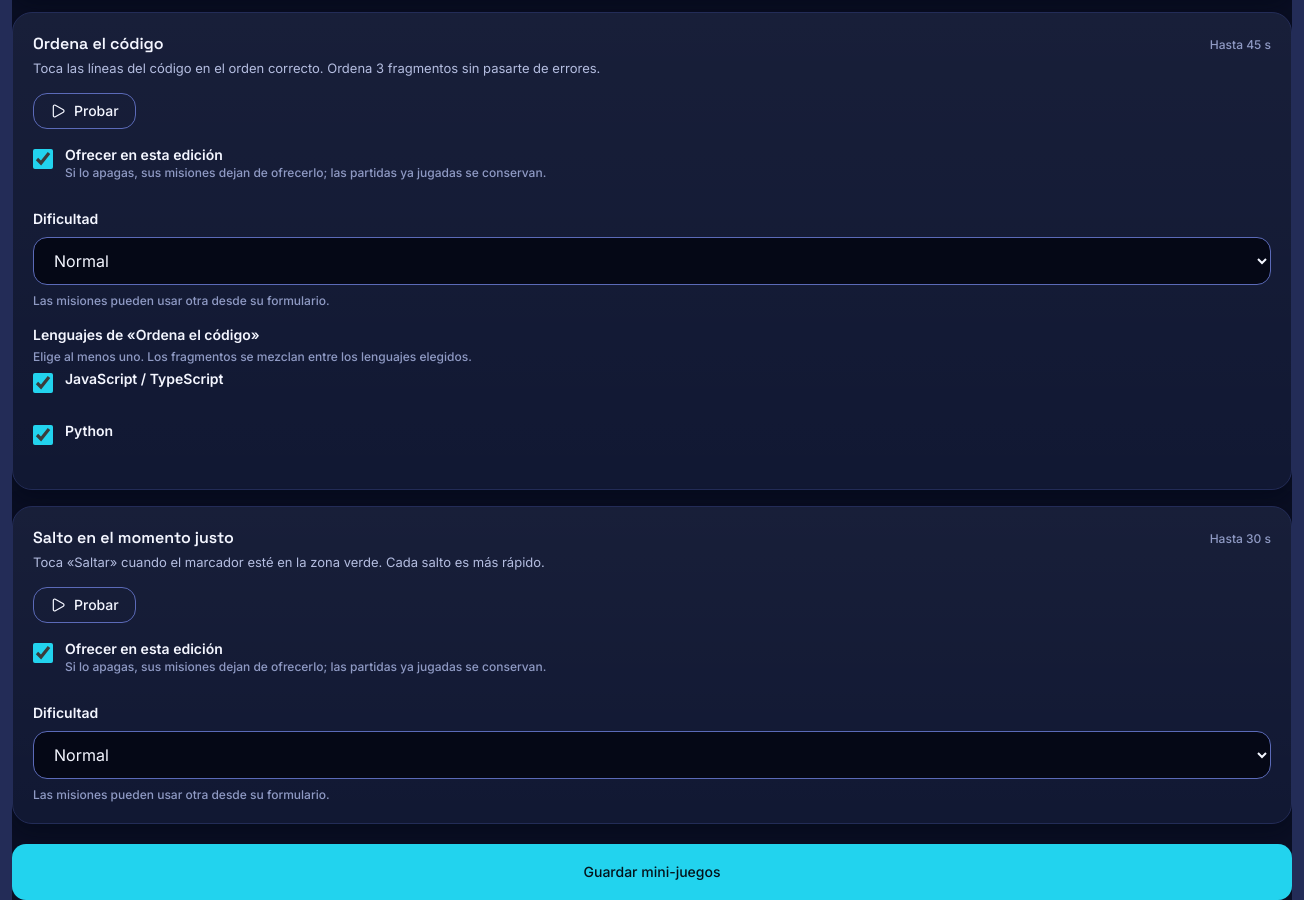
Test: MinigameSettingsView › locks the difficulty of a game that is switched off
(page scrolled)
Click the checkbox labelled "Ofrecer en esta edición" below "Salto en el momento justo": (43, 653) [33,643,53,663]
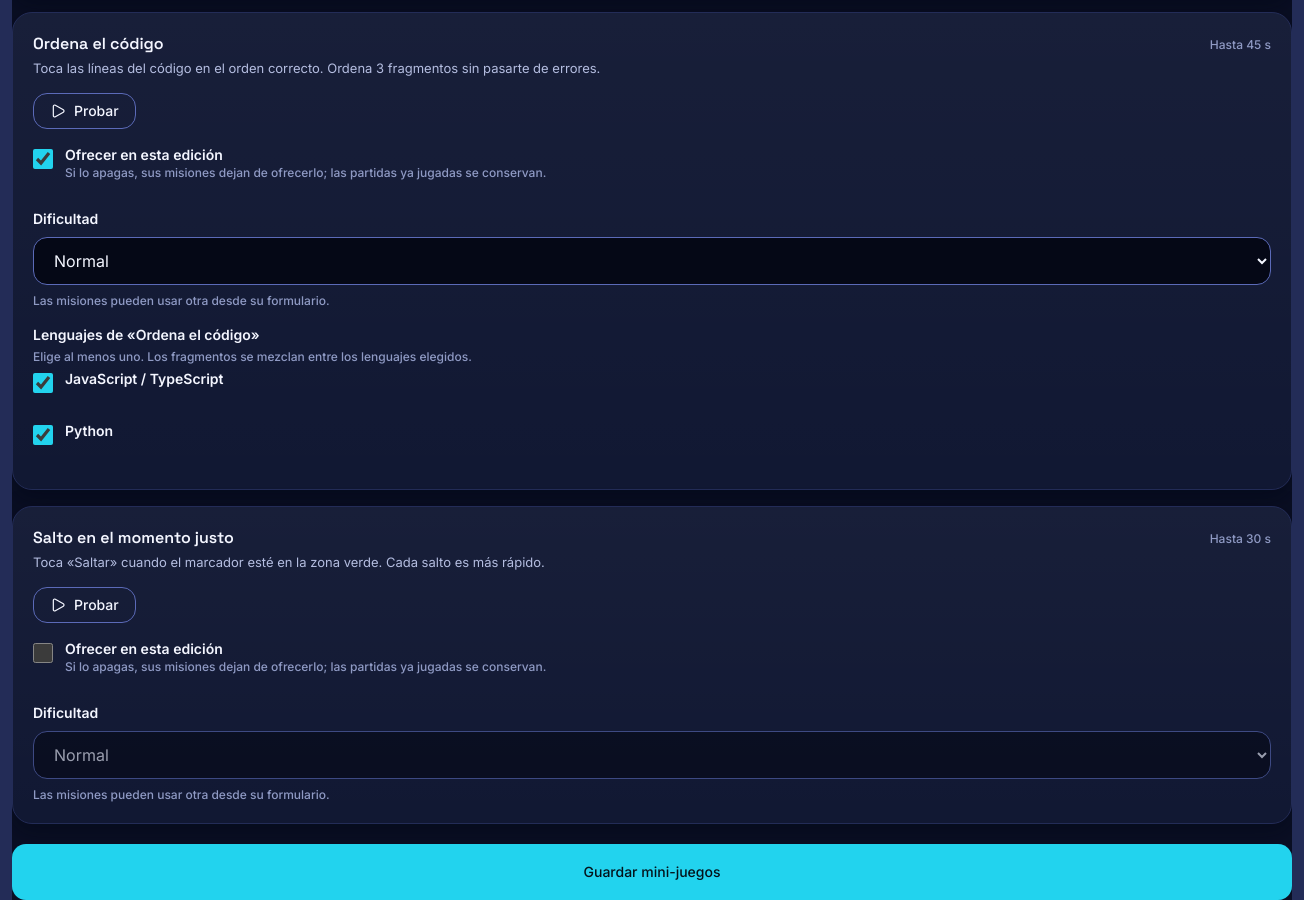
Now the dropdown labelled "Dificultad" below "Salto en el momento justo" is disabled, box [33,731,1271,779]
